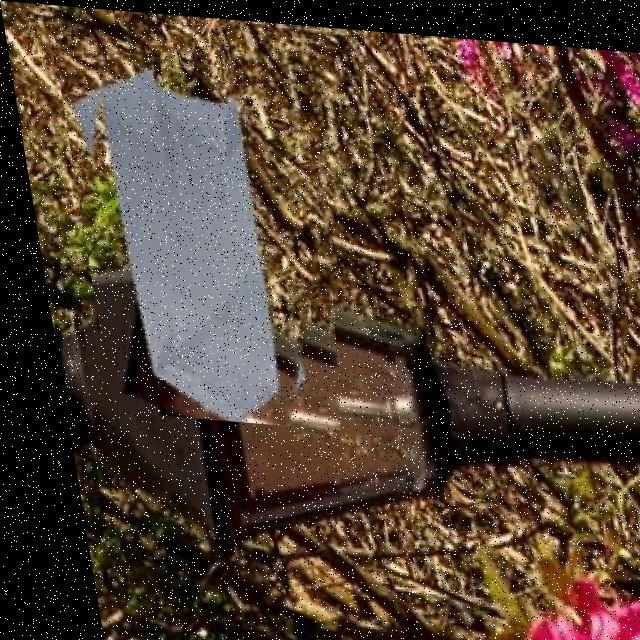plasticcover: (52, 39, 363, 427)
